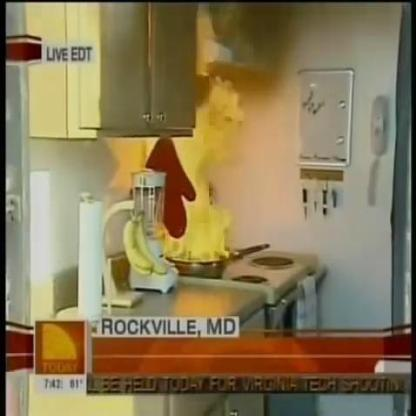fire: (164, 112, 241, 267)
